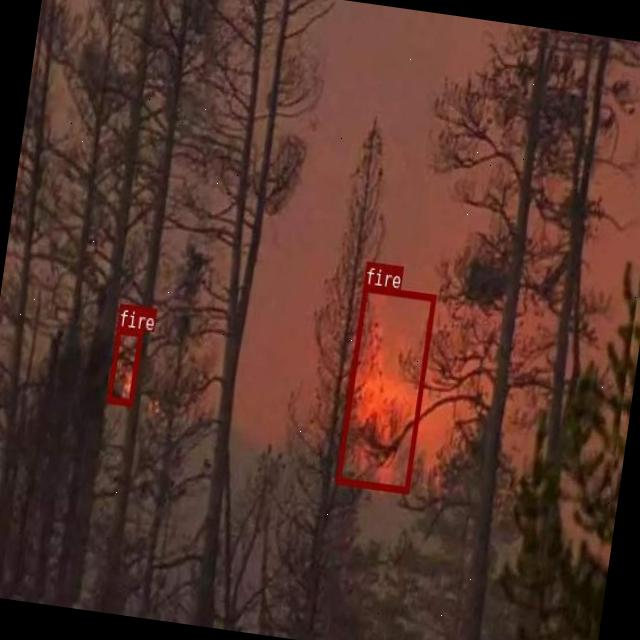fire: (336, 285, 436, 492), (106, 326, 142, 406)
